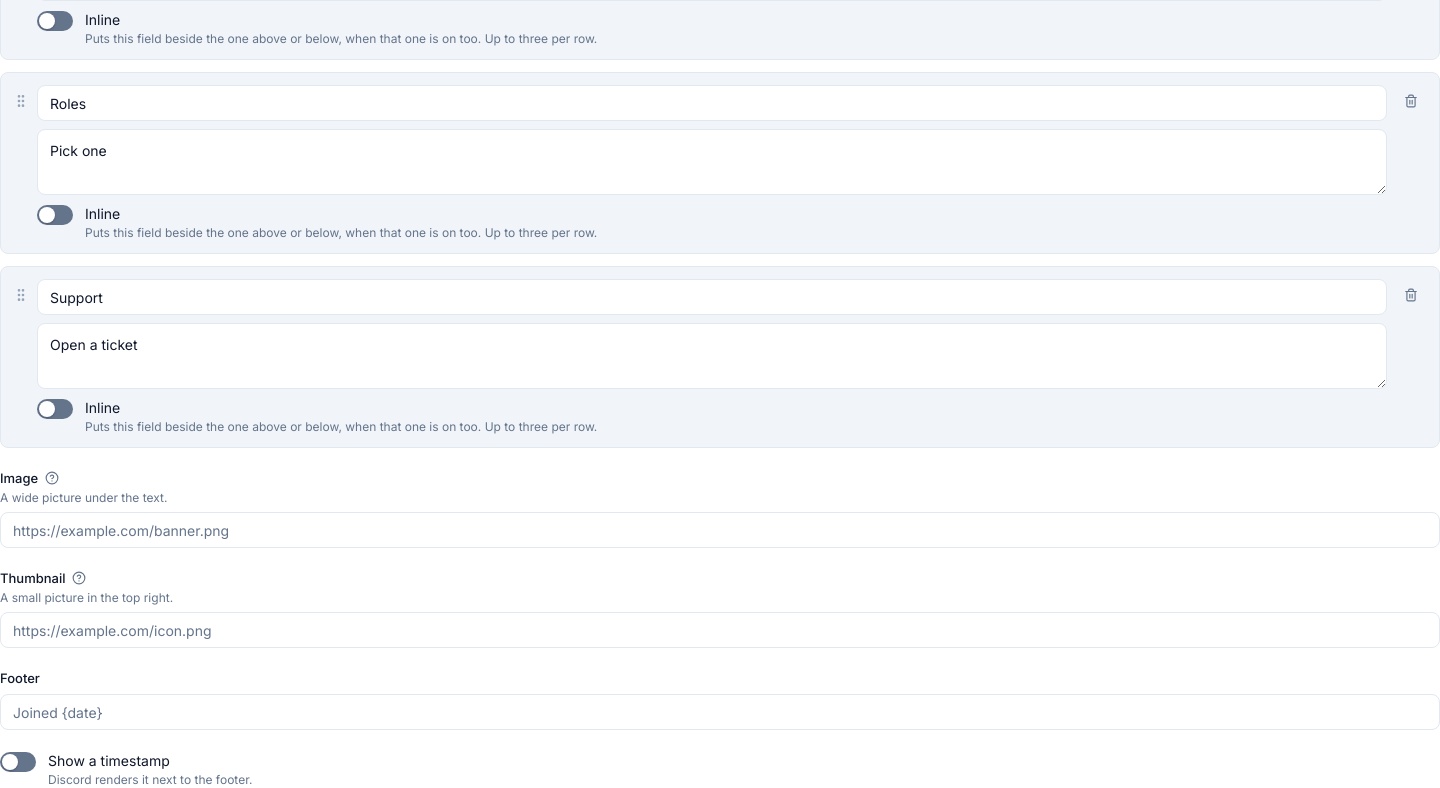
Test case: MessageComposer field order › offers the picture rules beside both image fields
(page scrolled)
Click the button named "Help with images" next to "Image" at x=52, y=478, box left=42, top=468, right=62, bottom=488
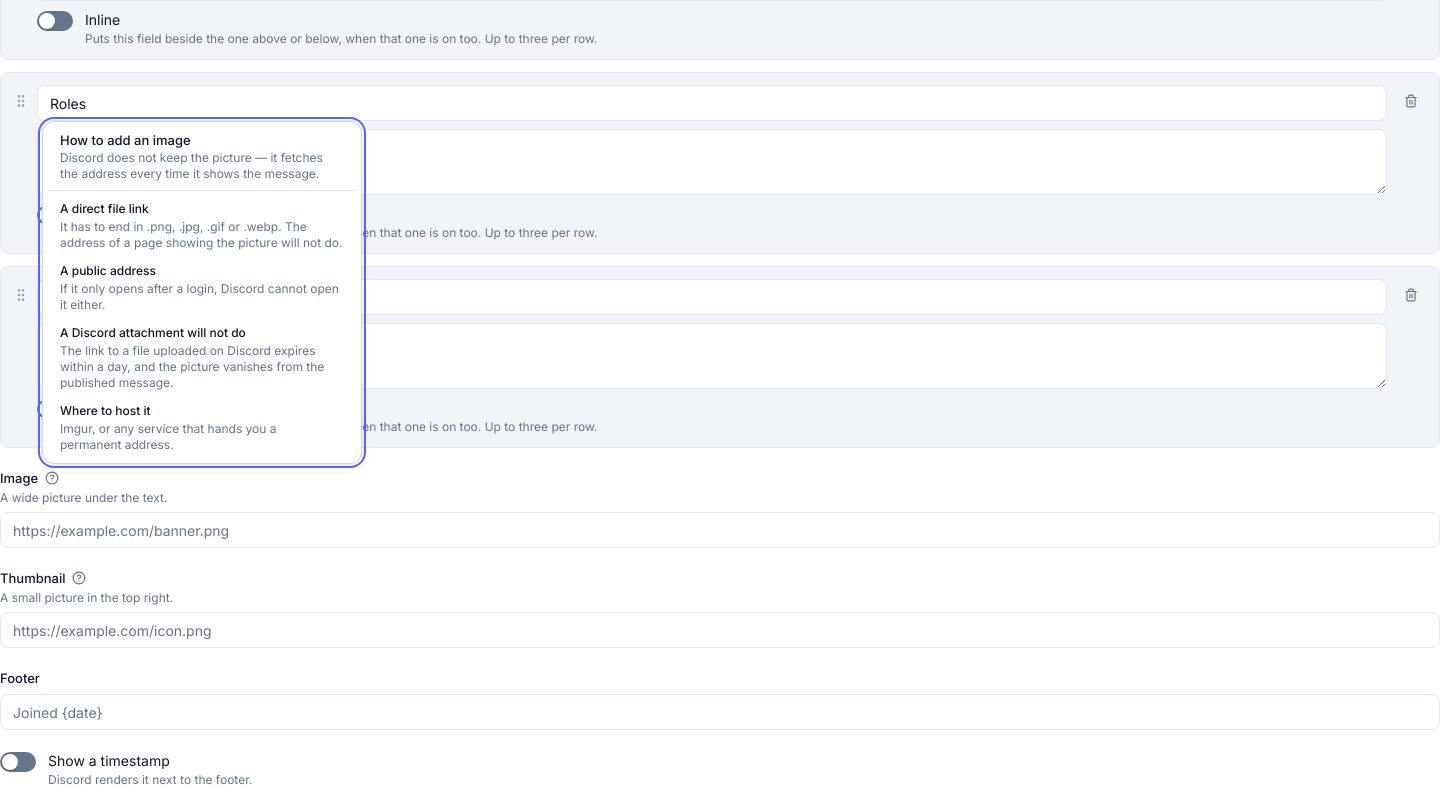
Expected: the text "How to add an image" is shown, left=60, top=132, right=191, bottom=148
Expected: the text "expires within a day" is shown, left=60, top=343, right=324, bottom=390
